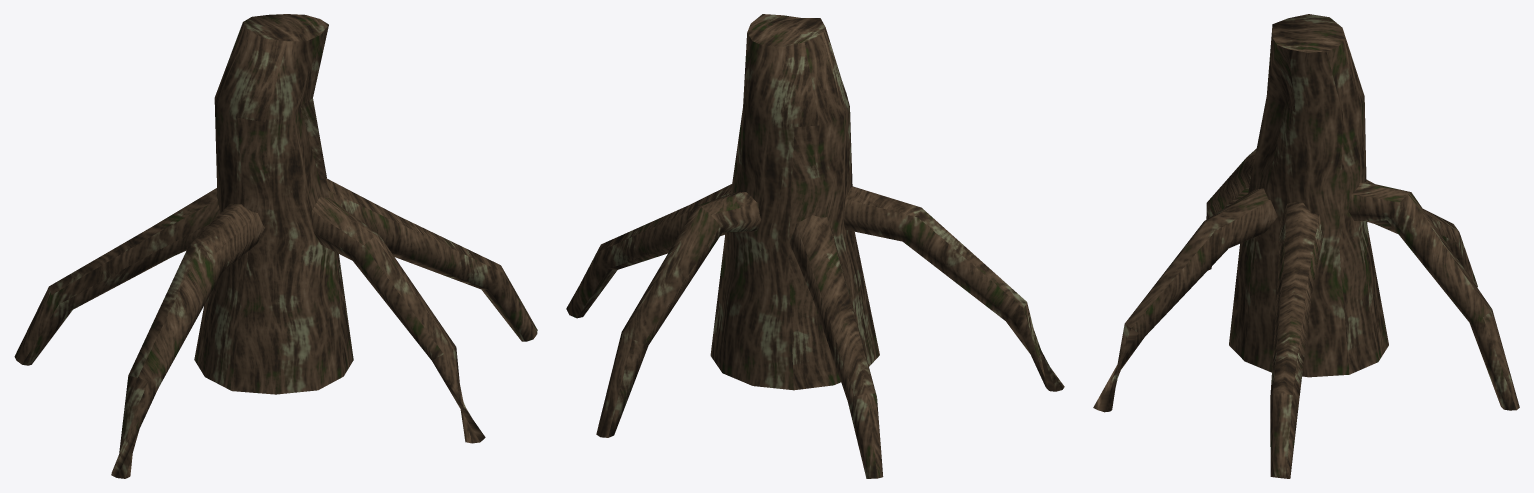
File: ENV_Swamp_Root.fbx
3 renders of one model, left to right at view 1: azimuth 30°, elevation 25°; view 2: azimuth 150°, elevation 25°; view 3: azimuth 270°, elevation 25°, orthographic. The views are drawn at different scales.
Visible parts, largest first — view 1: ENV_Swamp_Root; view 2: ENV_Swamp_Root; view 3: ENV_Swamp_Root.
Boxes of the visible parts, <box> form: ENV_Swamp_Root: <box>14,14,537,478</box>; ENV_Swamp_Root: <box>566,14,1064,478</box>; ENV_Swamp_Root: <box>1093,14,1519,478</box>.
Bounding box in the file's own units: 1.69 × 1.26 × 1.41.
